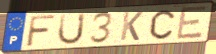3: (89, 11, 114, 45)
C: (149, 8, 176, 40)
E: (175, 5, 209, 42)
F: (25, 14, 57, 49)
K: (118, 11, 145, 42)
U: (56, 12, 87, 46)
